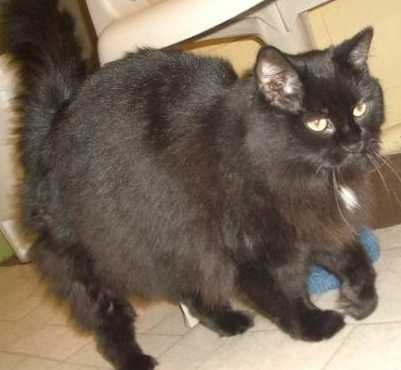Cat: (20, 10, 383, 350)
